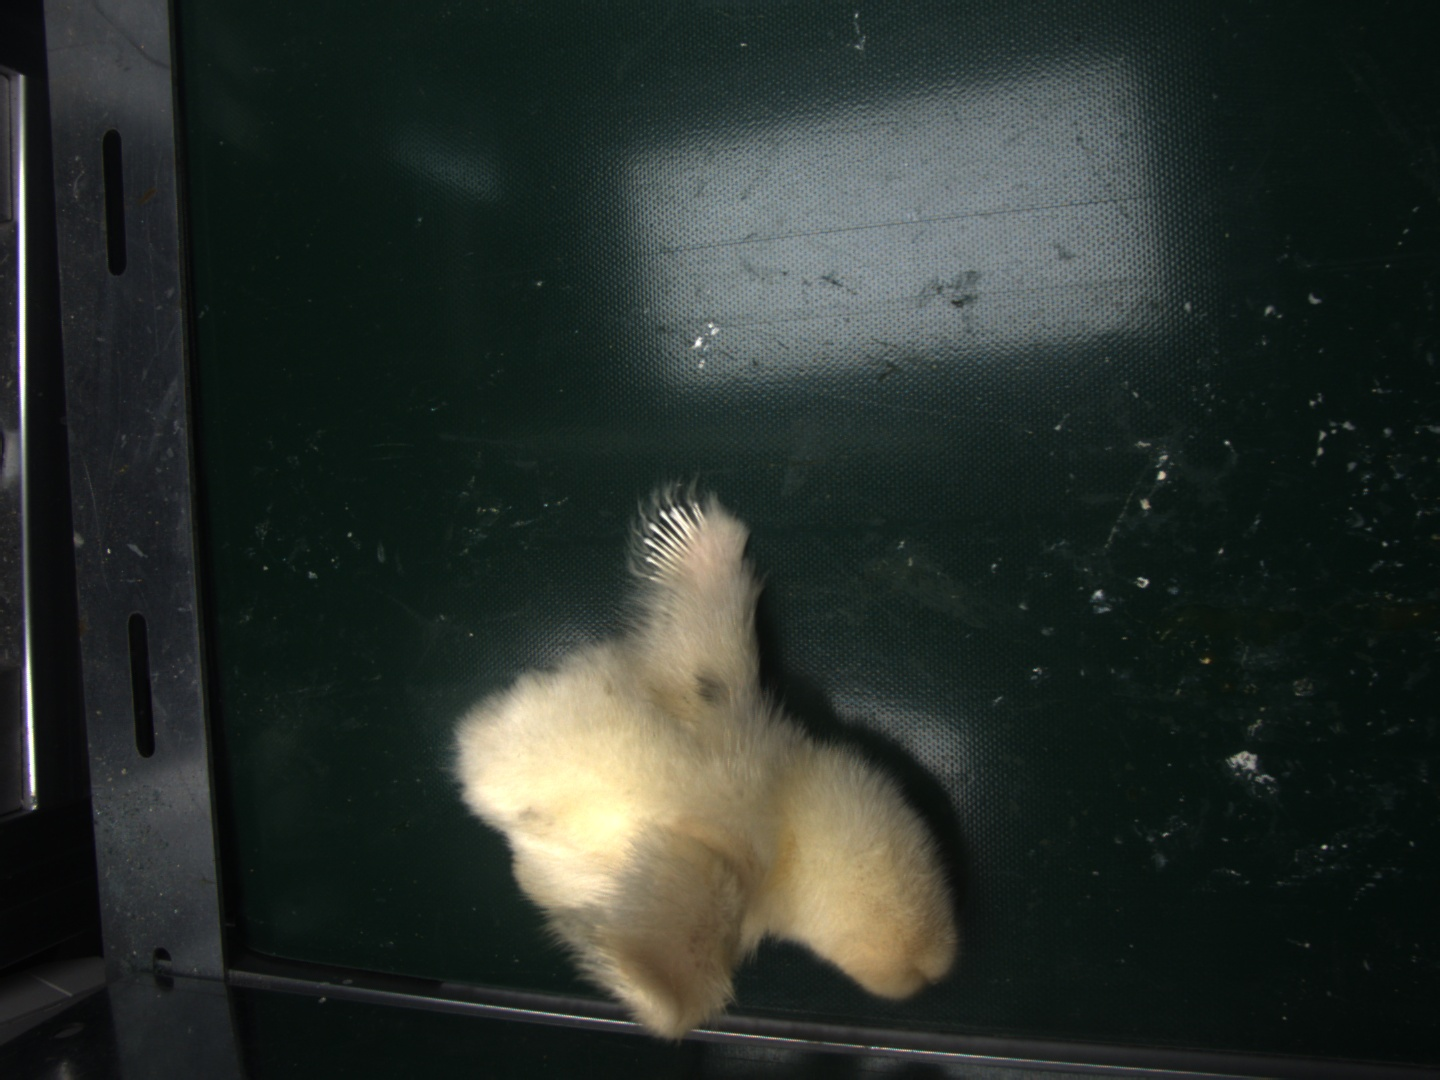male: (645, 503, 710, 581)
